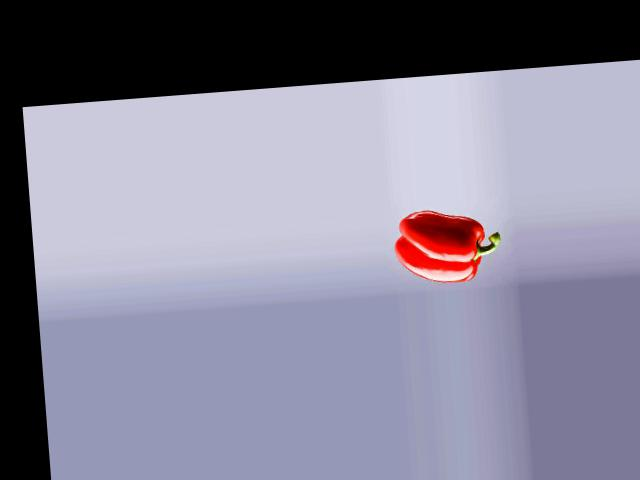bell_pepper: (395, 203, 504, 289)
